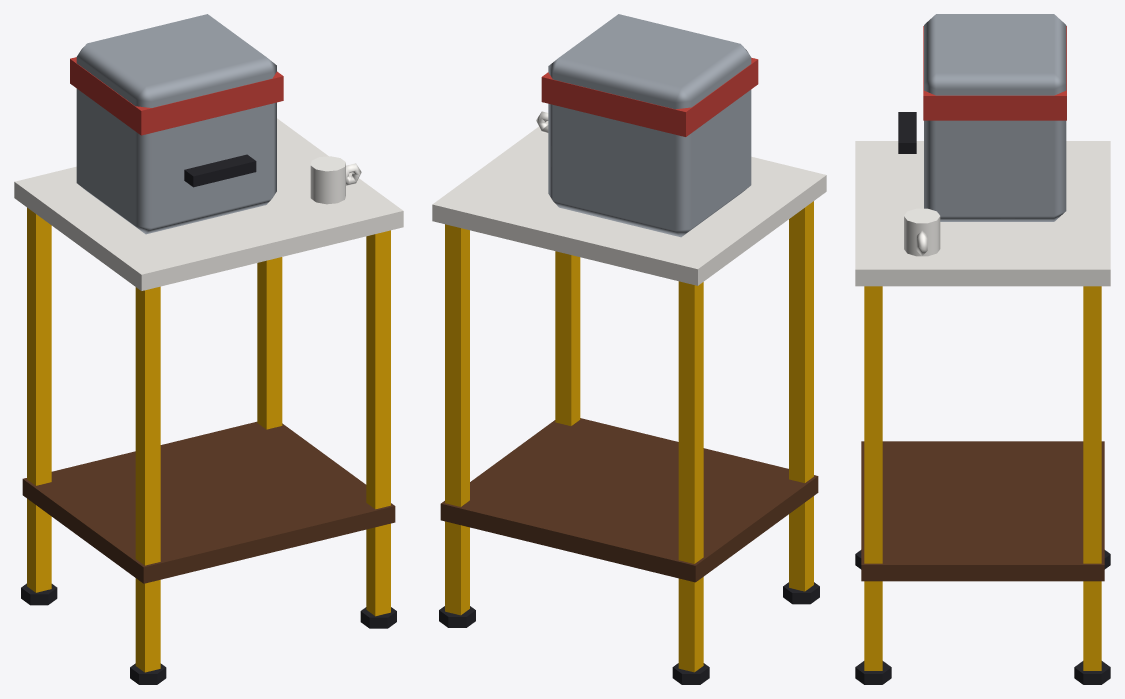
Rendered from station_intake_ausstattung_3_2.glb.
3 views of the same model, side by side, from view 1: azimuth 30°, elevation 25°; view 2: azimuth 150°, elevation 25°; view 3: azimuth 270°, elevation 25° (orthographic).
Visible parts, largest first — view 1: station_intake_ausstattung_3_2; view 2: station_intake_ausstattung_3_2; view 3: station_intake_ausstattung_3_2.
Boxes of the visible parts, bbox=[...] form: station_intake_ausstattung_3_2: bbox=[14, 14, 403, 684]; station_intake_ausstattung_3_2: bbox=[432, 14, 826, 684]; station_intake_ausstattung_3_2: bbox=[855, 14, 1110, 684].
Size of the model in its own units: 0.5 by 1.02 by 0.42.
